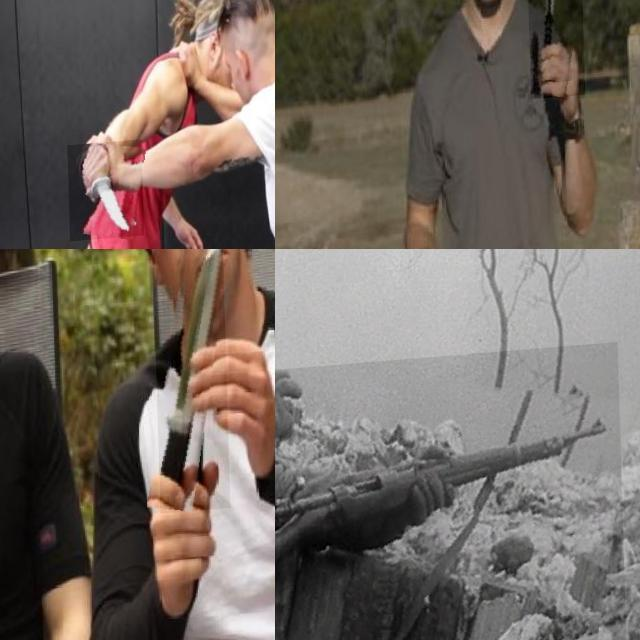-: (150, 249, 227, 519), (66, 144, 143, 245), (525, 0, 583, 105)
gun-knife-thesis - v11 Yolov5 augmented: (275, 352, 625, 640)
